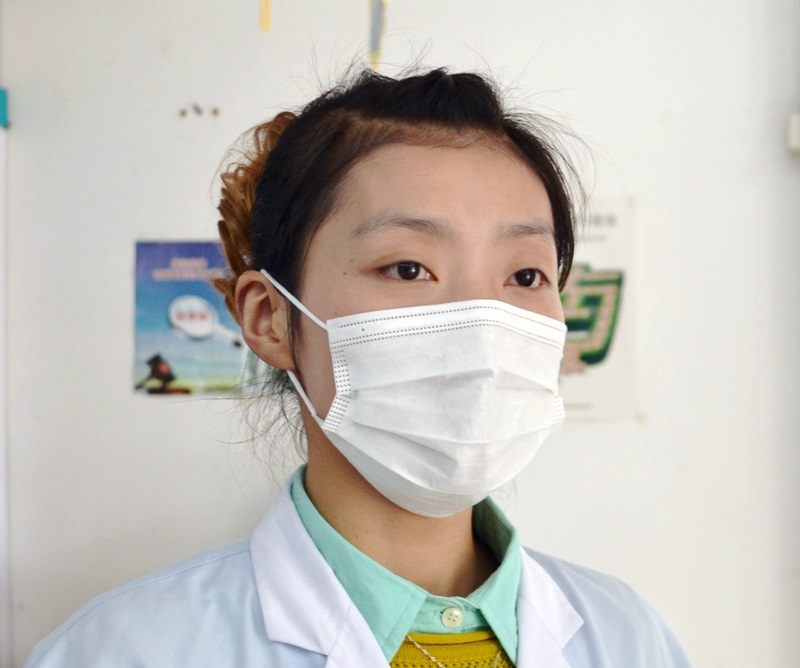face_mask: (299, 138, 570, 480)
